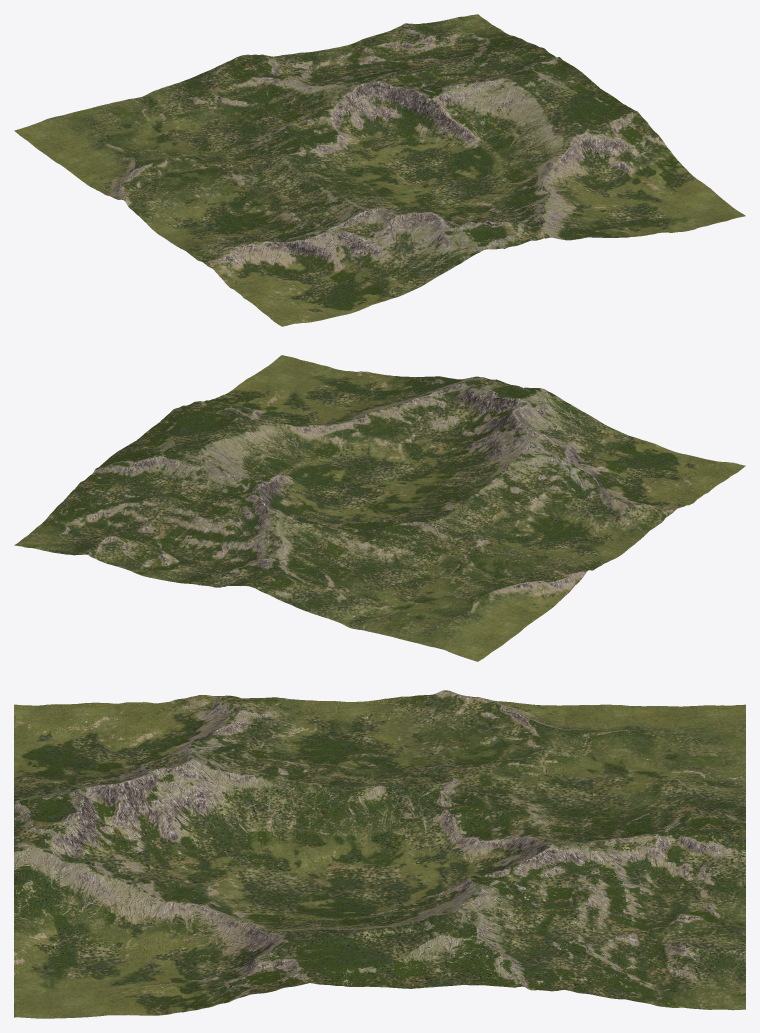
Rendered from terrain.glb.
The picture shows the model from 3 angles, top to bottom: view 1: azimuth 30°, elevation 25°; view 2: azimuth 150°, elevation 25°; view 3: azimuth 270°, elevation 25°; orthographic projection. The views are drawn at different scales.
Visible parts, largest first — view 1: Object_2; view 2: Object_2; view 3: Object_2.
Boxes of the visible parts, left/top/right/bottom form: Object_2: left=14, top=14, right=745, bottom=326; Object_2: left=14, top=355, right=745, bottom=661; Object_2: left=14, top=690, right=745, bottom=1018.
Size of the model in its own units: 980 by 83.88 by 980.
Materials: 1 (1 with a texture image).
